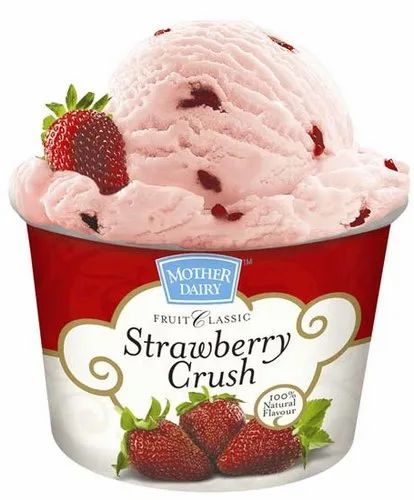Mother_Dairy: (151, 251, 253, 311)
